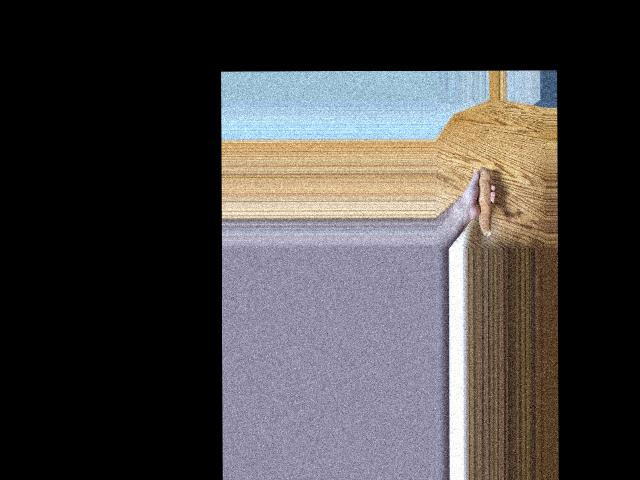sweet_potato: (471, 166, 492, 237)
